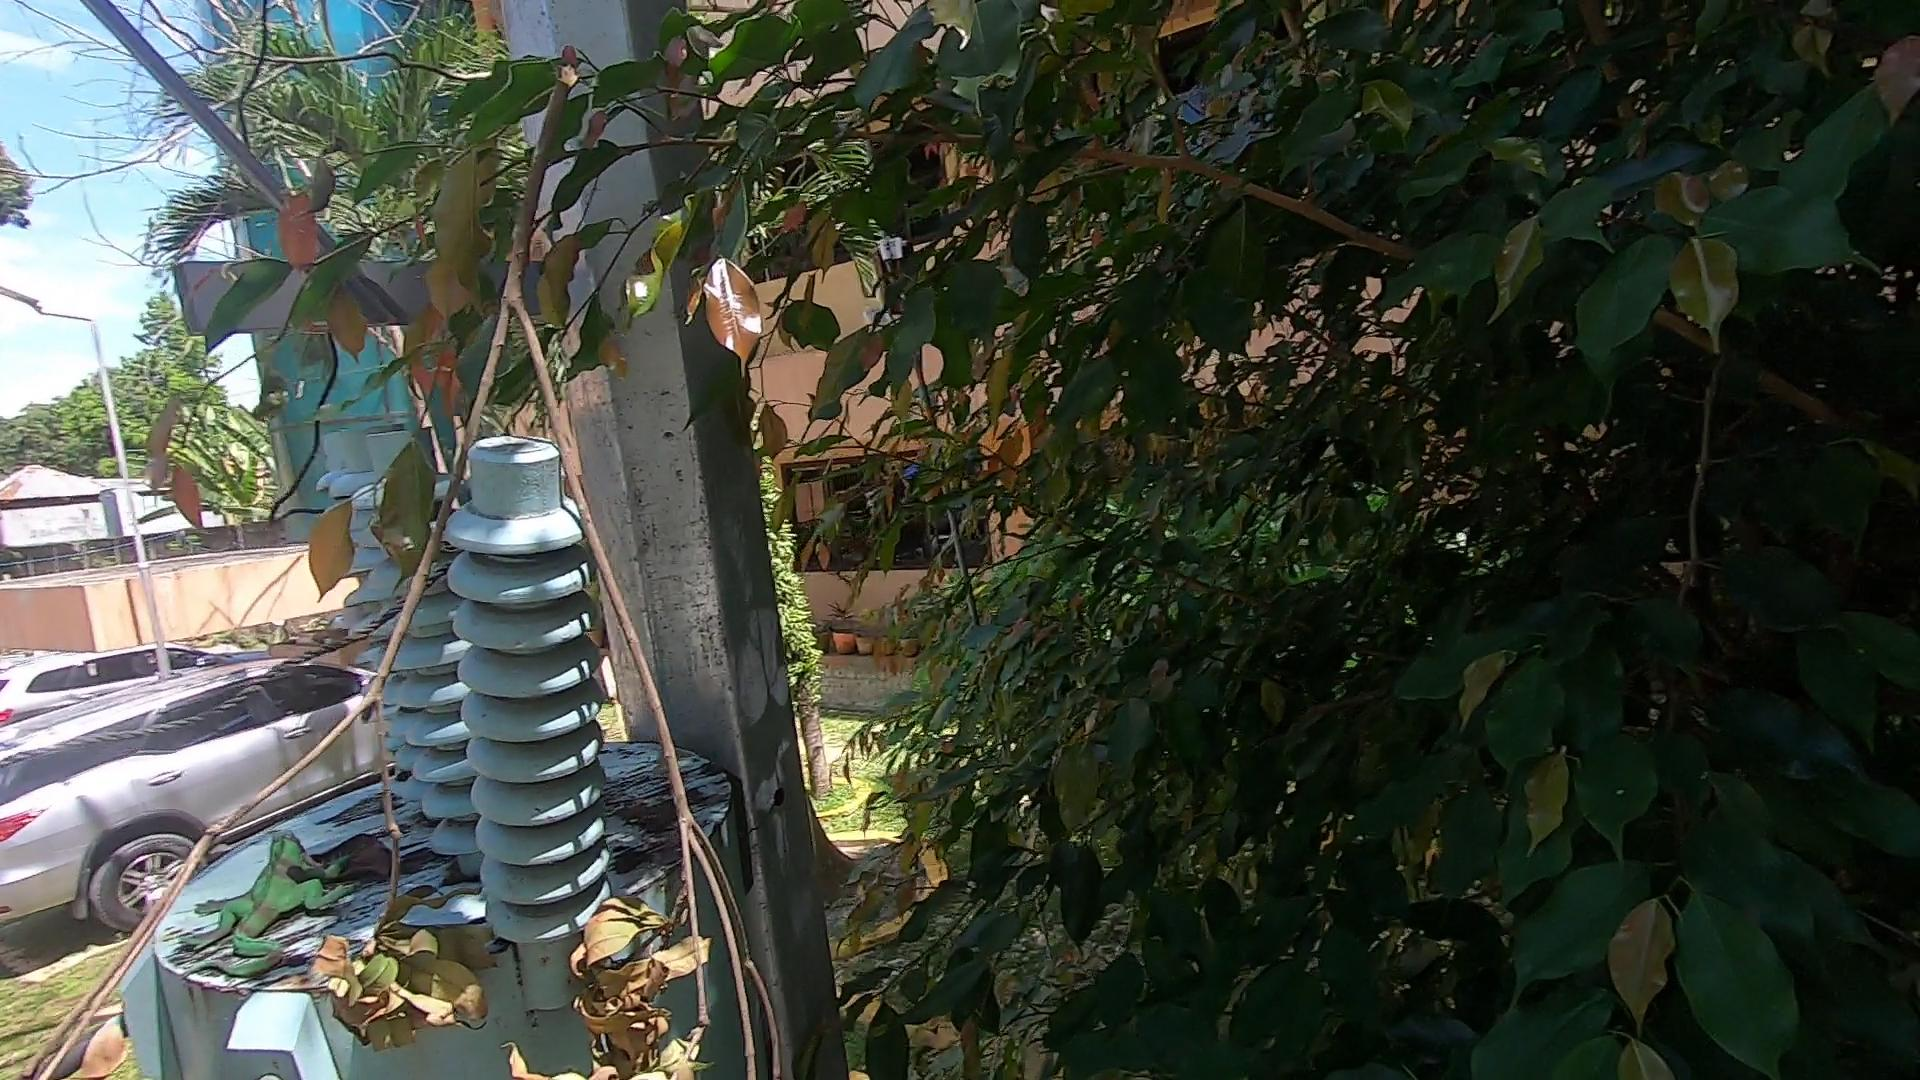branch with leaves: (36, 84, 847, 1080)
leaf: (324, 843, 406, 891)
